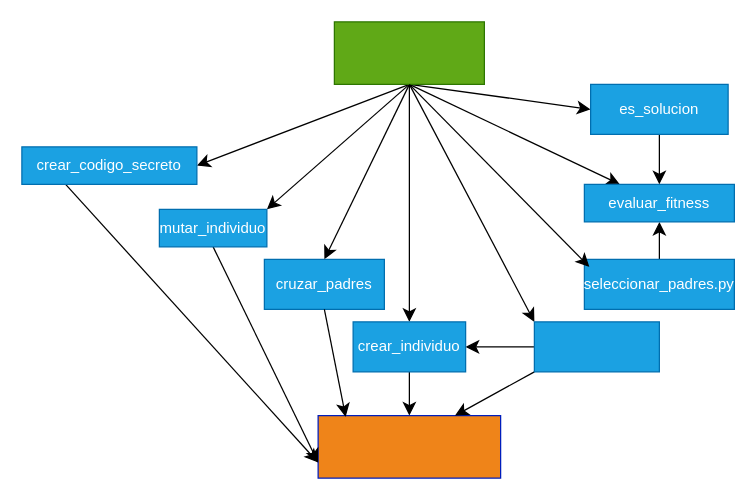
Image size: 756x500. Some labels were removed from this diagram. Here are the shapes that lost their labels. From the top down, the box of each, then its label:
(333, 21, 484, 84): main.py
(533, 321, 659, 372): crear_poblacion
(317, 414, 501, 478): constantes_mastermind
